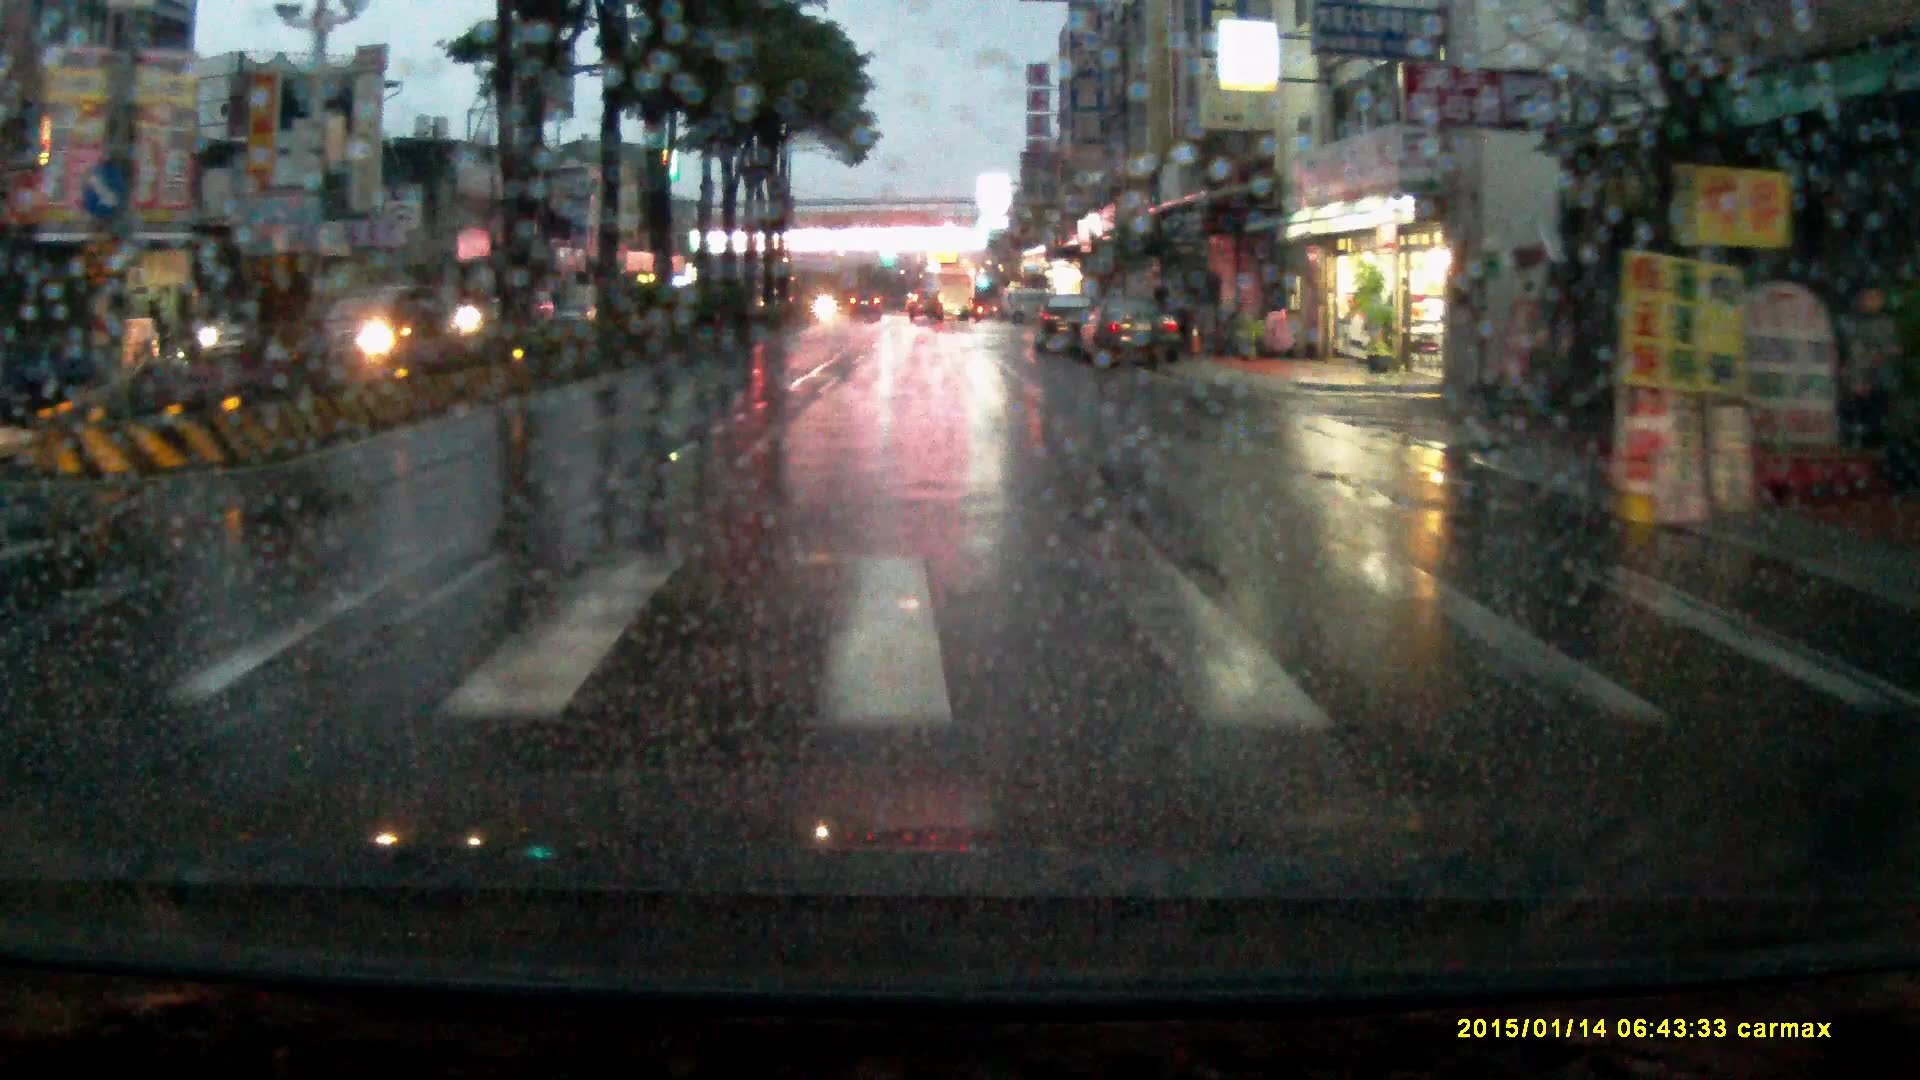rider: (449, 251, 515, 372)
vehicle: (1, 230, 193, 415), (313, 282, 466, 368), (1074, 299, 1183, 375), (200, 308, 267, 366), (1035, 298, 1096, 357), (924, 260, 974, 322), (910, 291, 946, 327), (850, 291, 882, 321)
